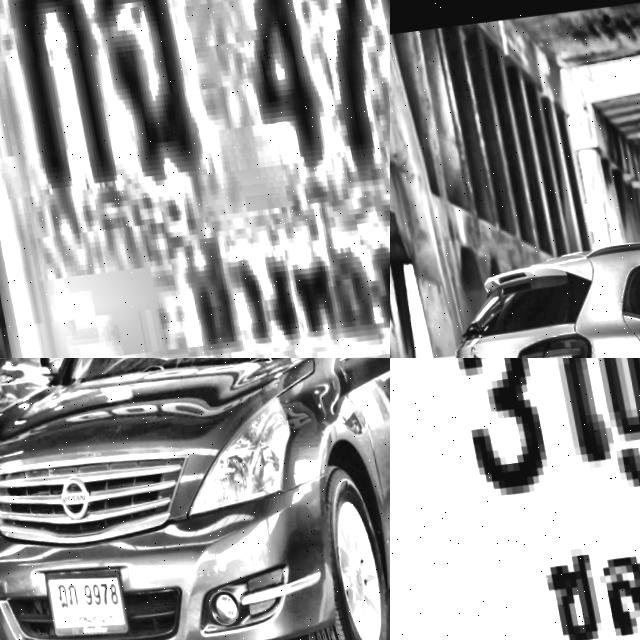license-plate: (0, 0, 390, 358), (390, 358, 640, 640), (23, 548, 138, 640)
